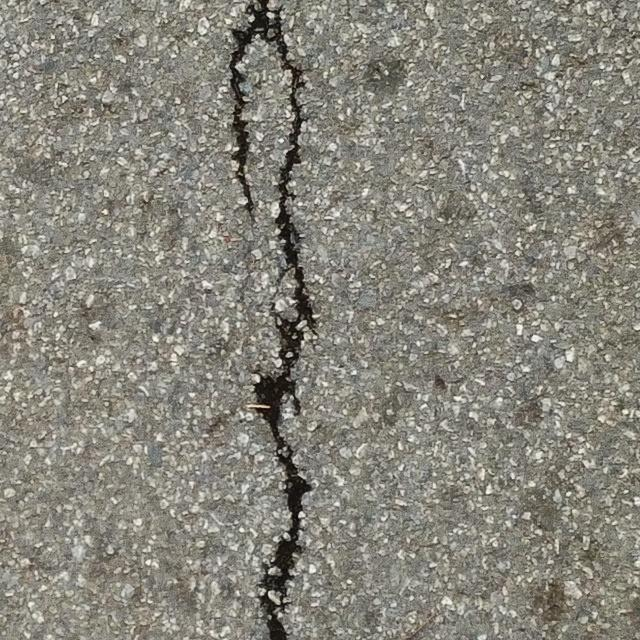LongitudinalCrack: (230, 1, 317, 640)
